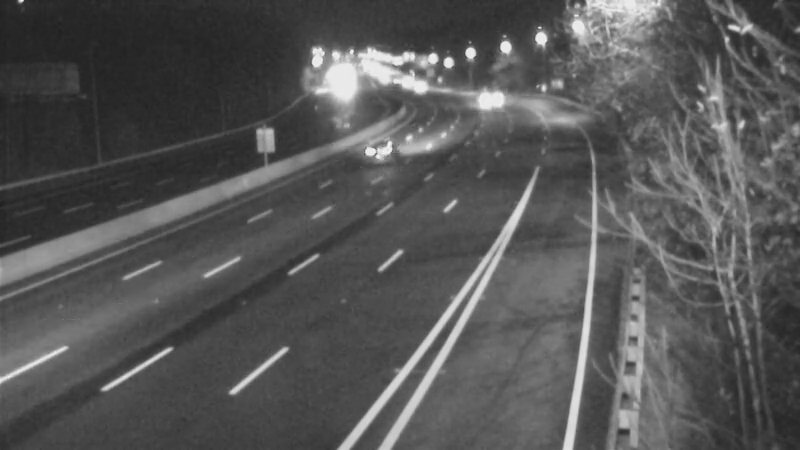vehicle: (386, 60, 436, 110), (460, 69, 510, 119), (354, 124, 404, 174)
